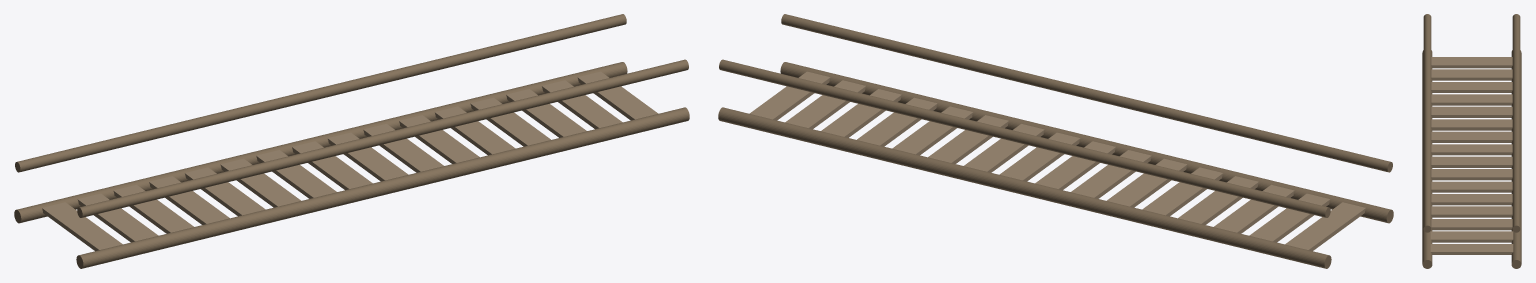
The model's file is nature_vine_suspension_bridge.glb.
3 views of the same model, side by side, from view 1: azimuth 30°, elevation 25°; view 2: azimuth 150°, elevation 25°; view 3: azimuth 270°, elevation 25° (orthographic). The views are drawn at different scales.
Visible parts, largest first — view 1: Main_Cable_Low_L, Handrail_Cable_R, Handrail_Cable_L, Main_Cable_Low_R, Bridge_Plank_1, Bridge_Plank_9, Bridge_Plank_16, Bridge_Plank_2, Bridge_Plank_15, Bridge_Plank_8, Bridge_Plank_3, Bridge_Plank_6 (+8 smaller); view 2: Main_Cable_Low_R, Handrail_Cable_L, Handrail_Cable_R, Main_Cable_Low_L, Bridge_Plank_1, Bridge_Plank_9, Bridge_Plank_16, Bridge_Plank_2, Bridge_Plank_15, Bridge_Plank_8, Bridge_Plank_3, Bridge_Plank_6 (+8 smaller); view 3: Handrail_Cable_L, Handrail_Cable_R, Bridge_Plank_15, Bridge_Plank_2, Bridge_Plank_4, Bridge_Plank_5, Bridge_Plank_6, Bridge_Plank_7, Bridge_Plank_8, Bridge_Plank_9, Bridge_Plank_10, Bridge_Plank_11 (+8 smaller).
Part boxes in pixels (x1,y1,x2,y2): Main_Cable_Low_L: (76,107,689,268); Handrail_Cable_R: (15,14,626,172); Handrail_Cable_L: (77,59,688,217); Main_Cable_Low_R: (14,62,627,223); Bridge_Plank_1: (42,202,122,251); Bridge_Plank_9: (327,132,408,181); Bridge_Plank_16: (577,71,658,120); Bridge_Plank_2: (77,193,158,242); Bridge_Plank_15: (542,80,622,129); Bridge_Plank_8: (292,141,372,190); Bridge_Plank_3: (113,184,193,233); Bridge_Plank_6: (220,158,301,207); Main_Cable_Low_R: (718,107,1331,268); Handrail_Cable_L: (781,14,1392,172); Handrail_Cable_R: (719,59,1330,217); Main_Cable_Low_L: (780,62,1393,223); Bridge_Plank_1: (1285,202,1365,251); Bridge_Plank_9: (999,132,1080,181); Bridge_Plank_16: (749,71,830,120); Bridge_Plank_2: (1249,193,1330,242); Bridge_Plank_15: (785,80,865,129); Bridge_Plank_8: (1035,141,1115,190); Bridge_Plank_3: (1214,184,1294,233); Bridge_Plank_6: (1106,158,1187,207); Handrail_Cable_L: (1423,14,1431,232); Handrail_Cable_R: (1512,14,1520,232); Bridge_Plank_15: (1430,231,1513,242); Bridge_Plank_2: (1431,69,1512,80); Bridge_Plank_4: (1431,94,1512,105); Bridge_Plank_5: (1431,106,1512,117); Bridge_Plank_6: (1431,119,1512,130); Bridge_Plank_7: (1431,131,1512,142); Bridge_Plank_8: (1431,144,1512,155); Bridge_Plank_9: (1431,156,1512,167); Bridge_Plank_10: (1431,169,1512,180); Bridge_Plank_11: (1431,181,1512,192).
Size of the model in its own units: 18 by 1.72 by 3.56.
